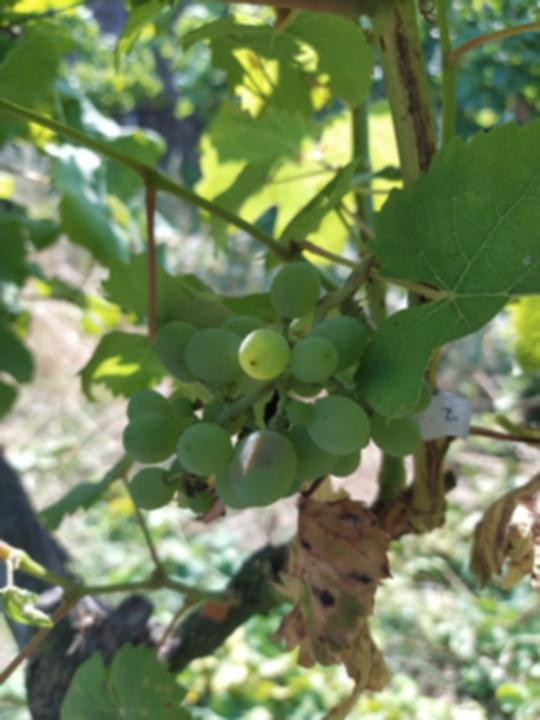grape: (120, 258, 432, 517)
